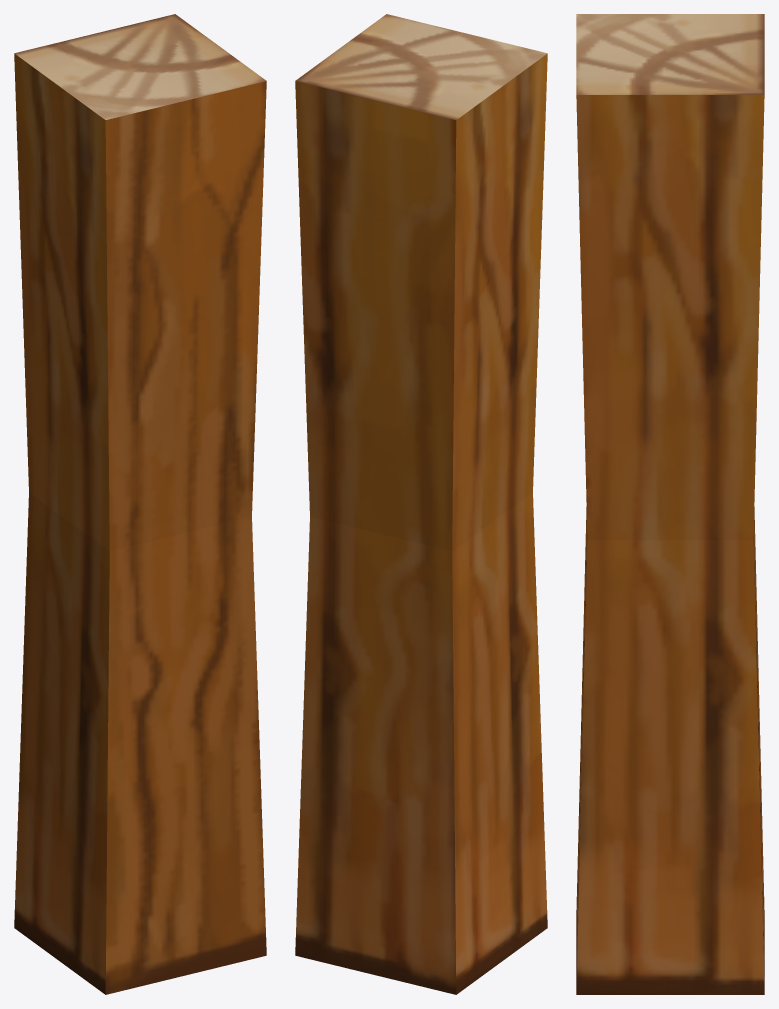
File: fence_01.fbx
3 renders of one model, left to right at view 1: azimuth 30°, elevation 25°; view 2: azimuth 150°, elevation 25°; view 3: azimuth 270°, elevation 25°, orthographic. The views are drawn at different scales.
Visible parts, largest first — view 1: Cube.011; view 2: Cube.011; view 3: Cube.011.
Boxes of the visible parts, x1,y1,x2,y2 form: Cube.011: [14, 14, 266, 994]; Cube.011: [295, 14, 547, 994]; Cube.011: [576, 14, 764, 994].
Bounding box in the file's own units: 16.8 × 87.17 × 16.52.
